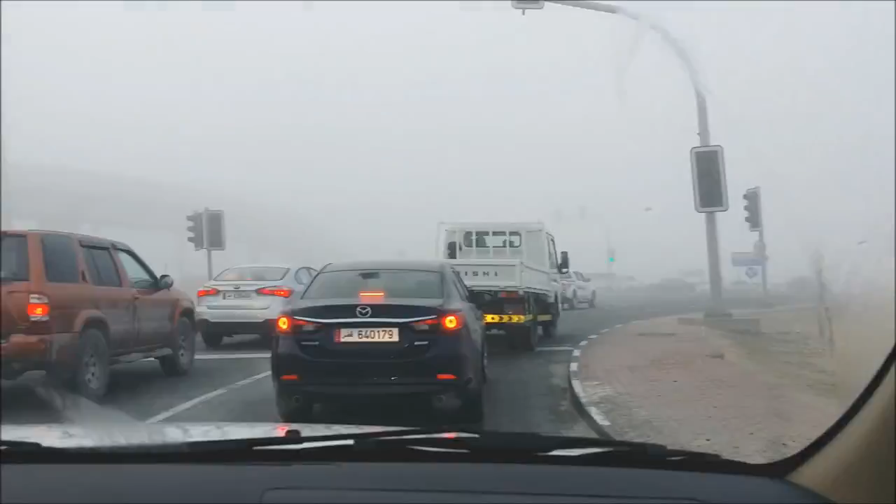bus: (268, 258, 493, 430), (432, 217, 570, 352)
car: (1, 228, 195, 403), (194, 261, 350, 348), (527, 267, 598, 312)
